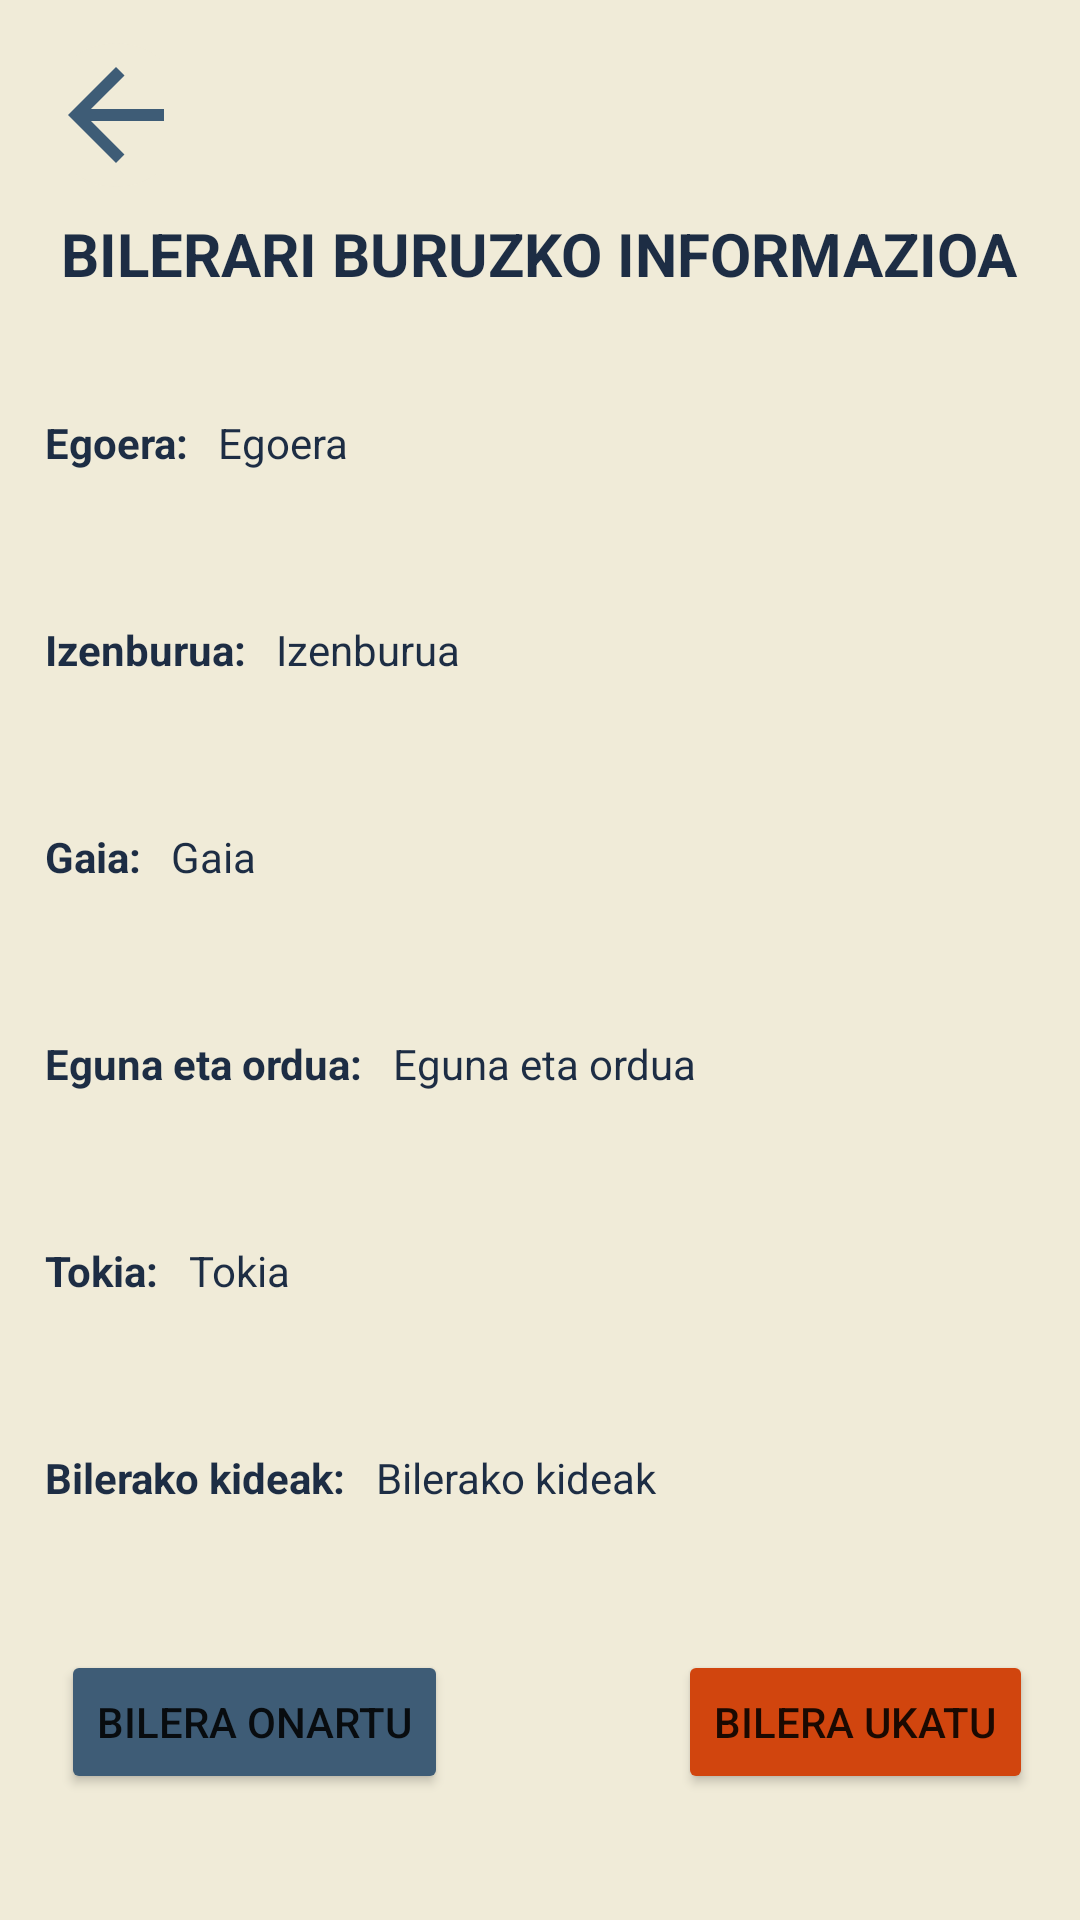

Named icons in this screenshot (1080px x 1920px) and their centers, point (x, y):
Itzultzeko botoia: point (116, 115)
